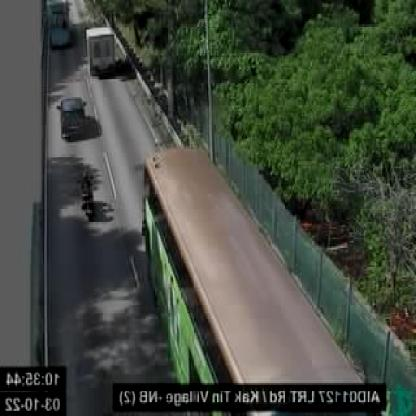Bus: (145, 147, 378, 409)
Car: (87, 26, 117, 73), (58, 96, 89, 136)
